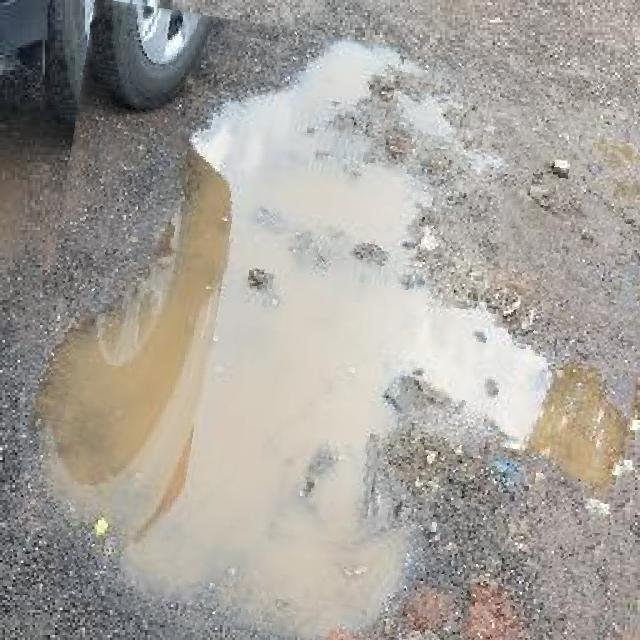puddle: (25, 19, 640, 640)
